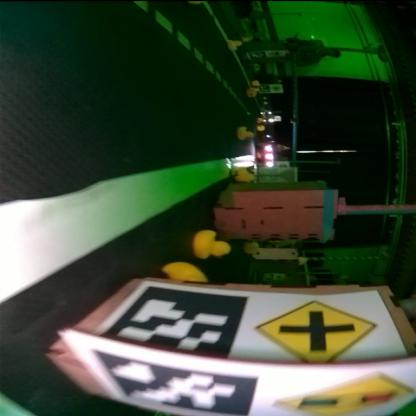Duckie: (196, 231, 230, 257), (166, 264, 208, 284), (236, 169, 255, 181), (228, 40, 244, 50), (242, 130, 256, 139), (249, 91, 257, 97)
Intersection sign: (252, 298, 380, 360)
QR code: (93, 347, 257, 415), (99, 284, 250, 356), (250, 52, 266, 58)
Signal sign: (272, 372, 414, 416)
